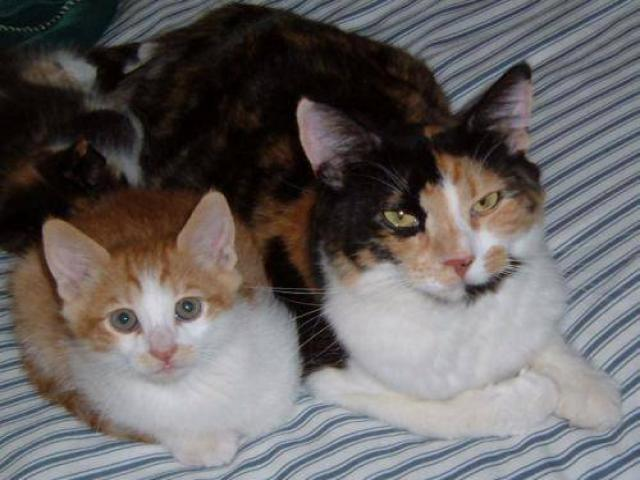cat: (147, 16, 624, 439), (3, 183, 301, 461)
